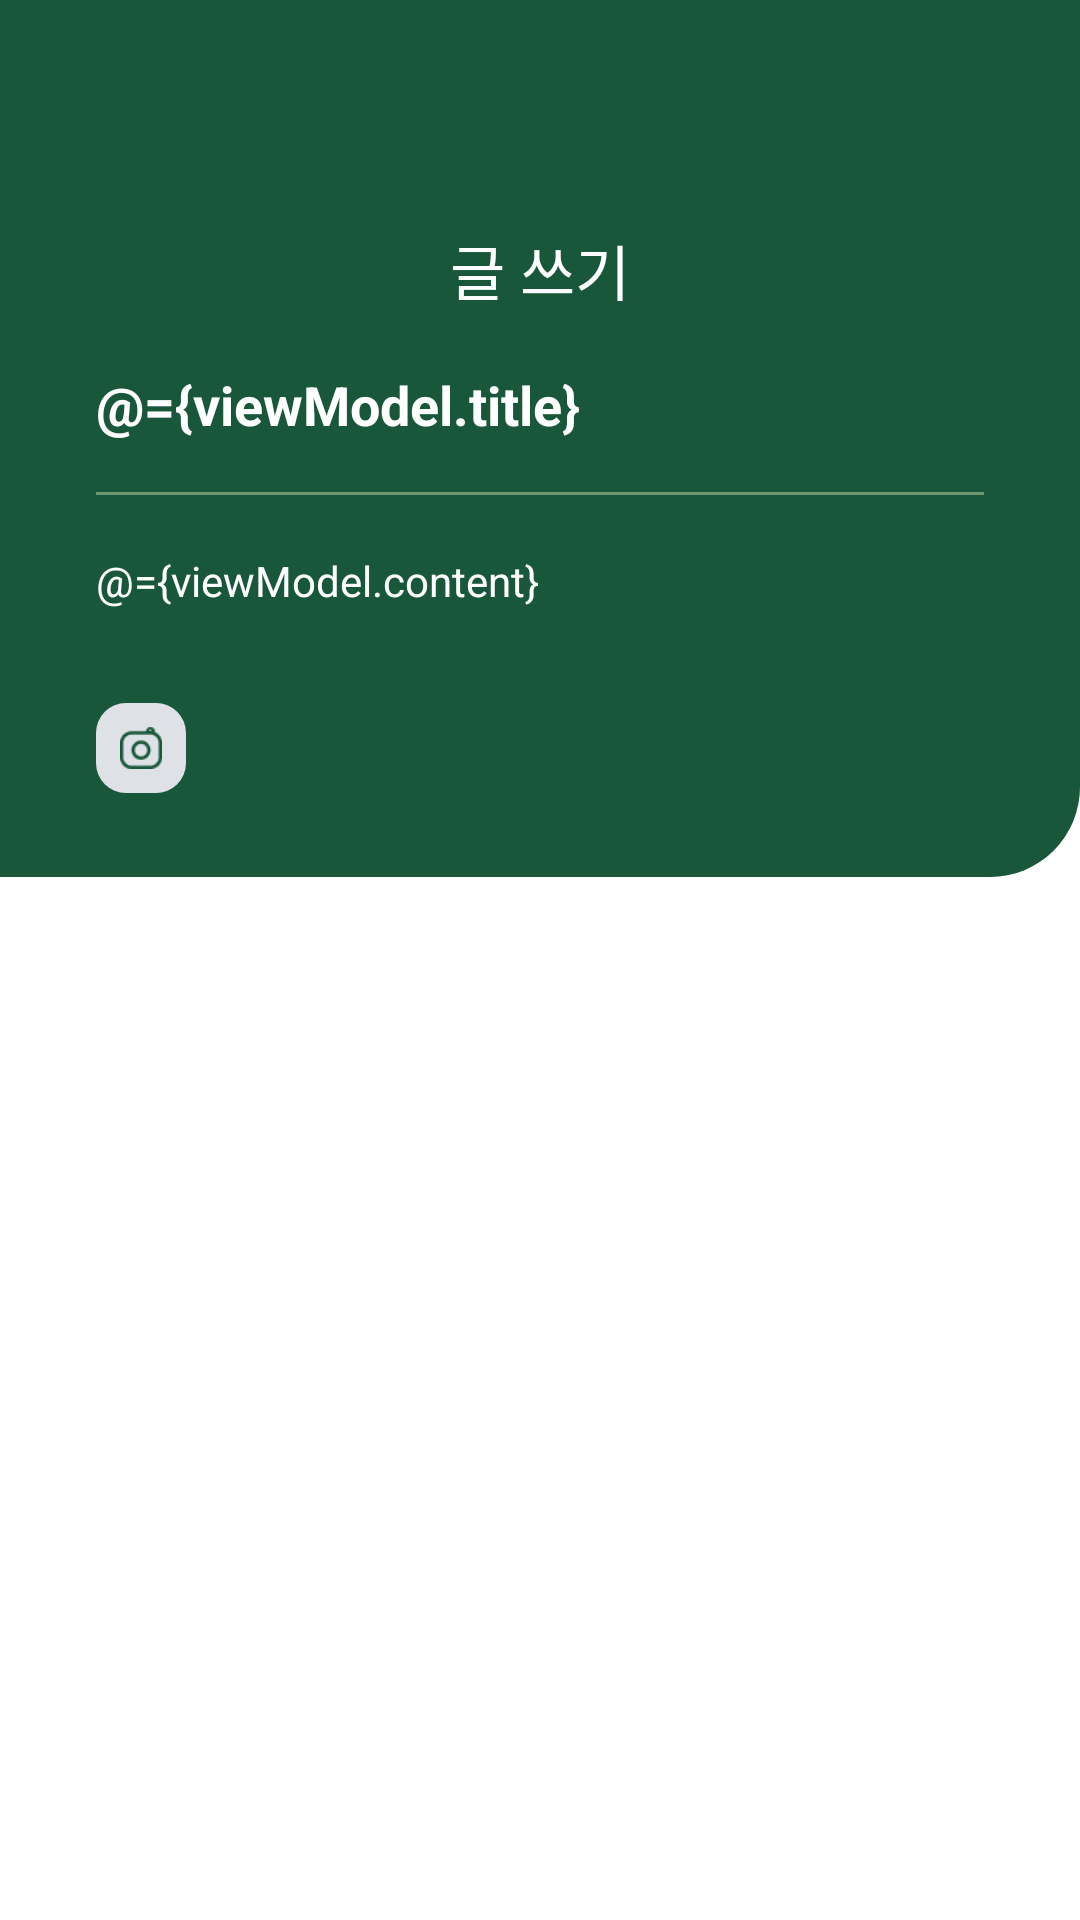

Locate icon controls on the screen. Image size 1080 x 1920, boxes as {"x1": x1, "y1": y1, "x2": x2, "y2": y2}.
camera: {"x1": 96, "y1": 703, "x2": 186, "y2": 793}
